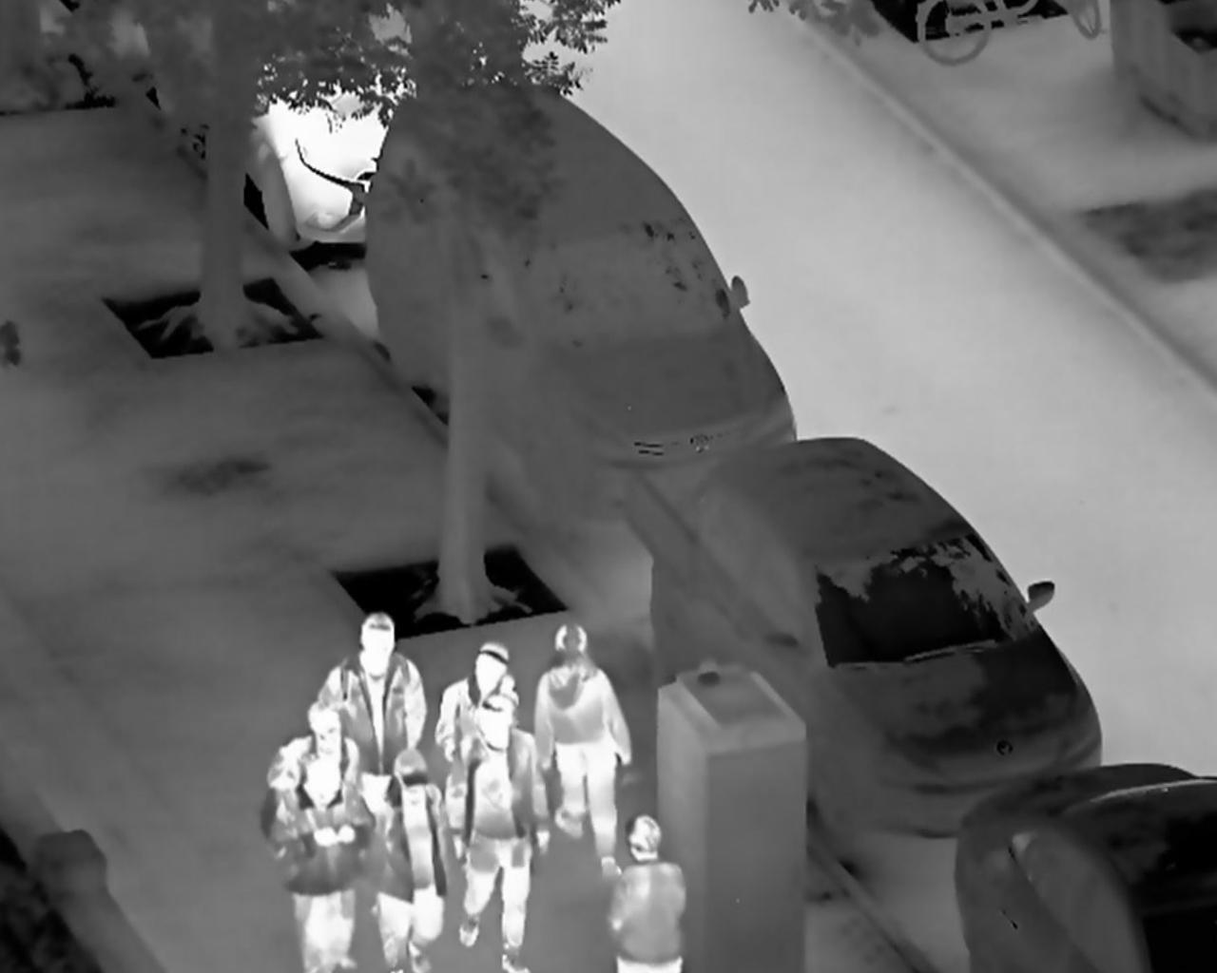person: (445, 691, 551, 973), (531, 621, 637, 883), (275, 752, 380, 973), (314, 609, 428, 785), (369, 746, 452, 973), (603, 813, 690, 973), (270, 700, 363, 830), (437, 636, 524, 754)
